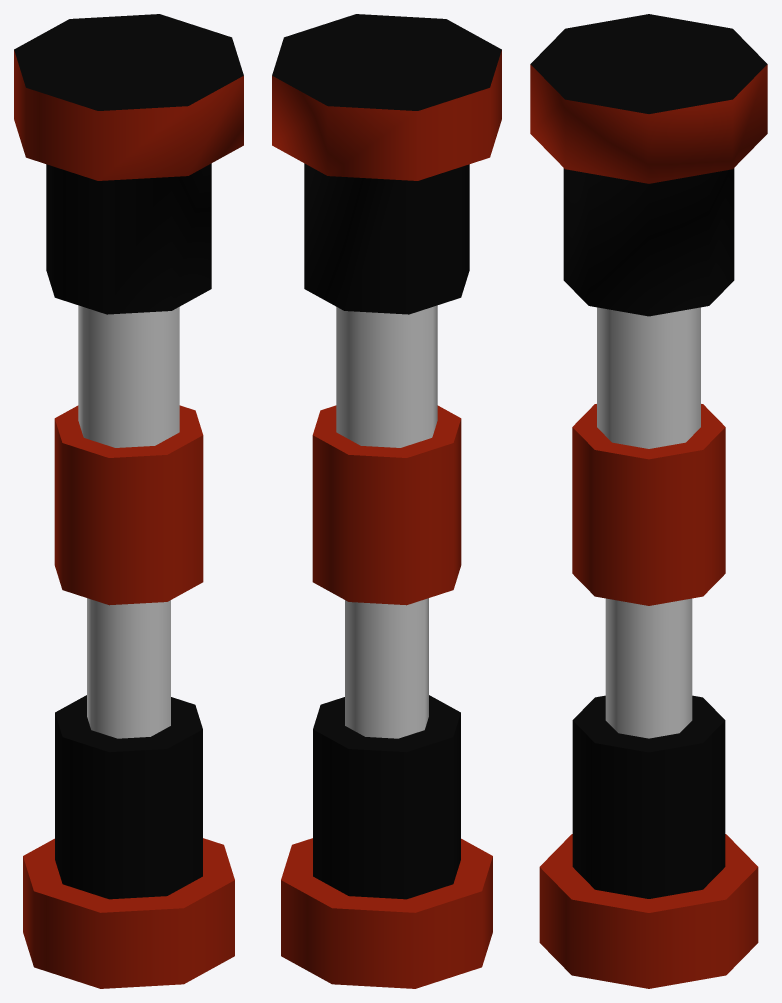
Rendered from Pillar Castle.FBX.
The picture shows the model from 3 angles, left to right: view 1: azimuth 30°, elevation 25°; view 2: azimuth 150°, elevation 25°; view 3: azimuth 270°, elevation 25°; orthographic projection.
Visible parts, largest first — view 1: Cylinder002; view 2: Cylinder002; view 3: Cylinder002.
Boxes of the visible parts, left/top/right/bottom form: Cylinder002: left=14, top=14, right=243, bottom=988; Cylinder002: left=272, top=14, right=501, bottom=988; Cylinder002: left=530, top=14, right=767, bottom=988.
Bounding box in the file's own units: 26.56 × 109 × 26.56.
Materials: 1 (1 with a texture image).
